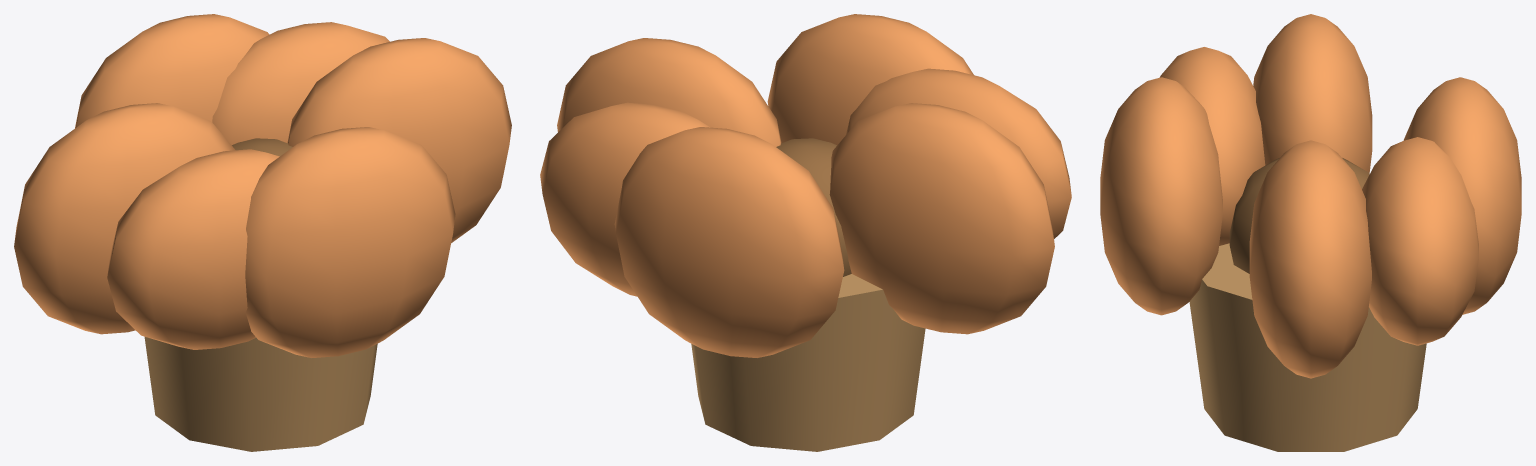
Rendered from fern.glb.
The picture shows the model from 3 angles, left to right: view 1: azimuth 30°, elevation 25°; view 2: azimuth 150°, elevation 25°; view 3: azimuth 270°, elevation 25°; orthographic projection. The views are drawn at different scales.
Visible parts, largest first — view 1: fern; view 2: fern; view 3: fern.
Part boxes in pixels (left/top/right/bottom): fern: left=14, top=14, right=511, bottom=451; fern: left=540, top=14, right=1071, bottom=451; fern: left=1100, top=14, right=1521, bottom=451.
Bounding box in the file's own units: 26.1 × 16.5 × 19.75.
